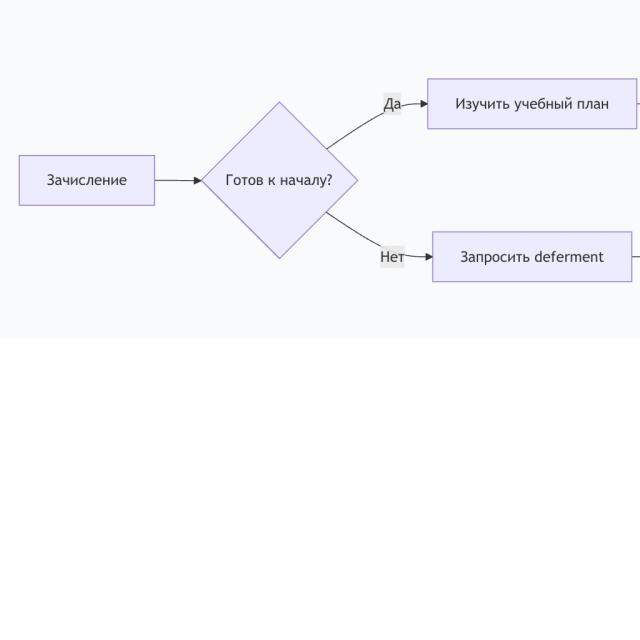arrow: (328, 212, 433, 274), (328, 89, 428, 147), (153, 174, 204, 186)
diamond: (200, 99, 356, 262)
text_region: (381, 246, 406, 267), (383, 96, 402, 112)
